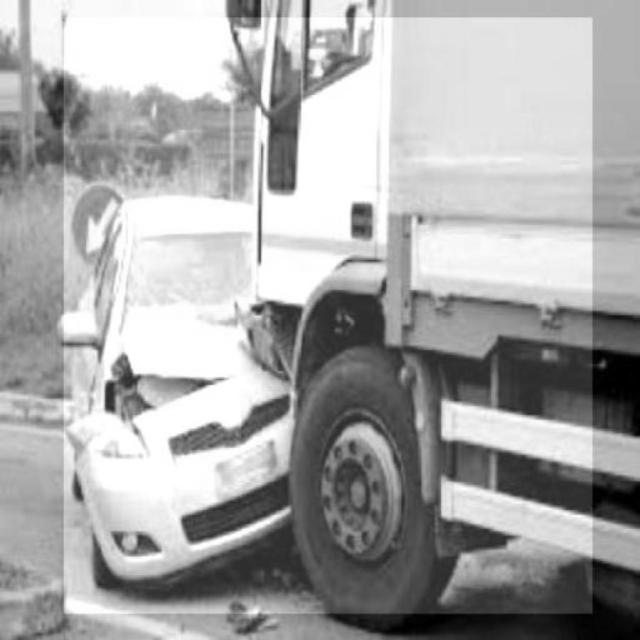accident: (64, 18, 592, 614)
